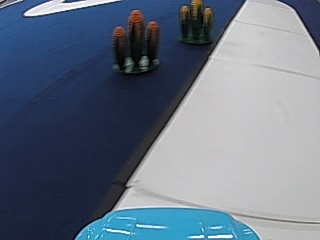corn: (112, 9, 161, 77), (177, 0, 215, 45)
